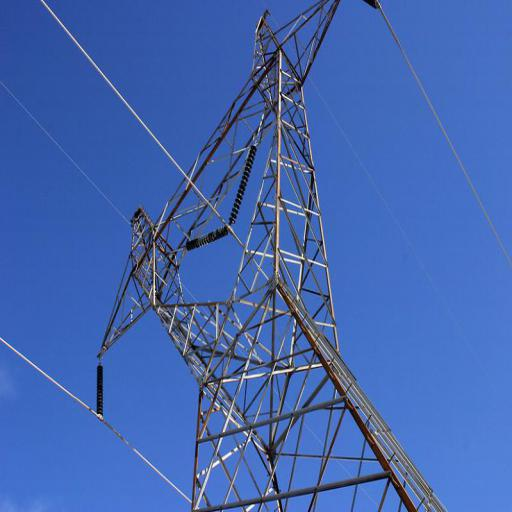wt_5: (96, 0, 448, 509)
